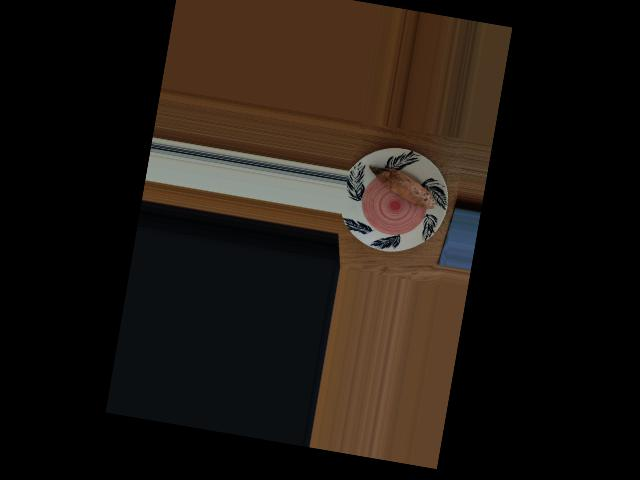sweet_potato: (370, 165, 436, 211)
